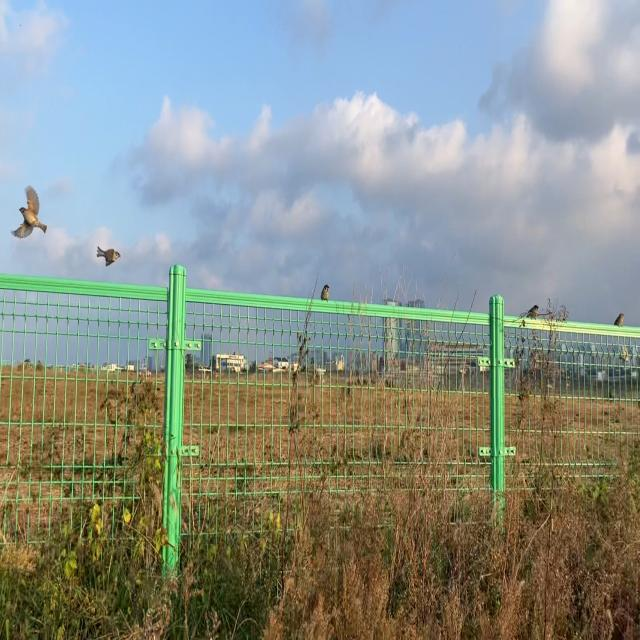bird: (11, 186, 48, 243), (95, 246, 122, 270), (526, 302, 541, 320), (615, 312, 627, 328), (321, 283, 331, 302)
